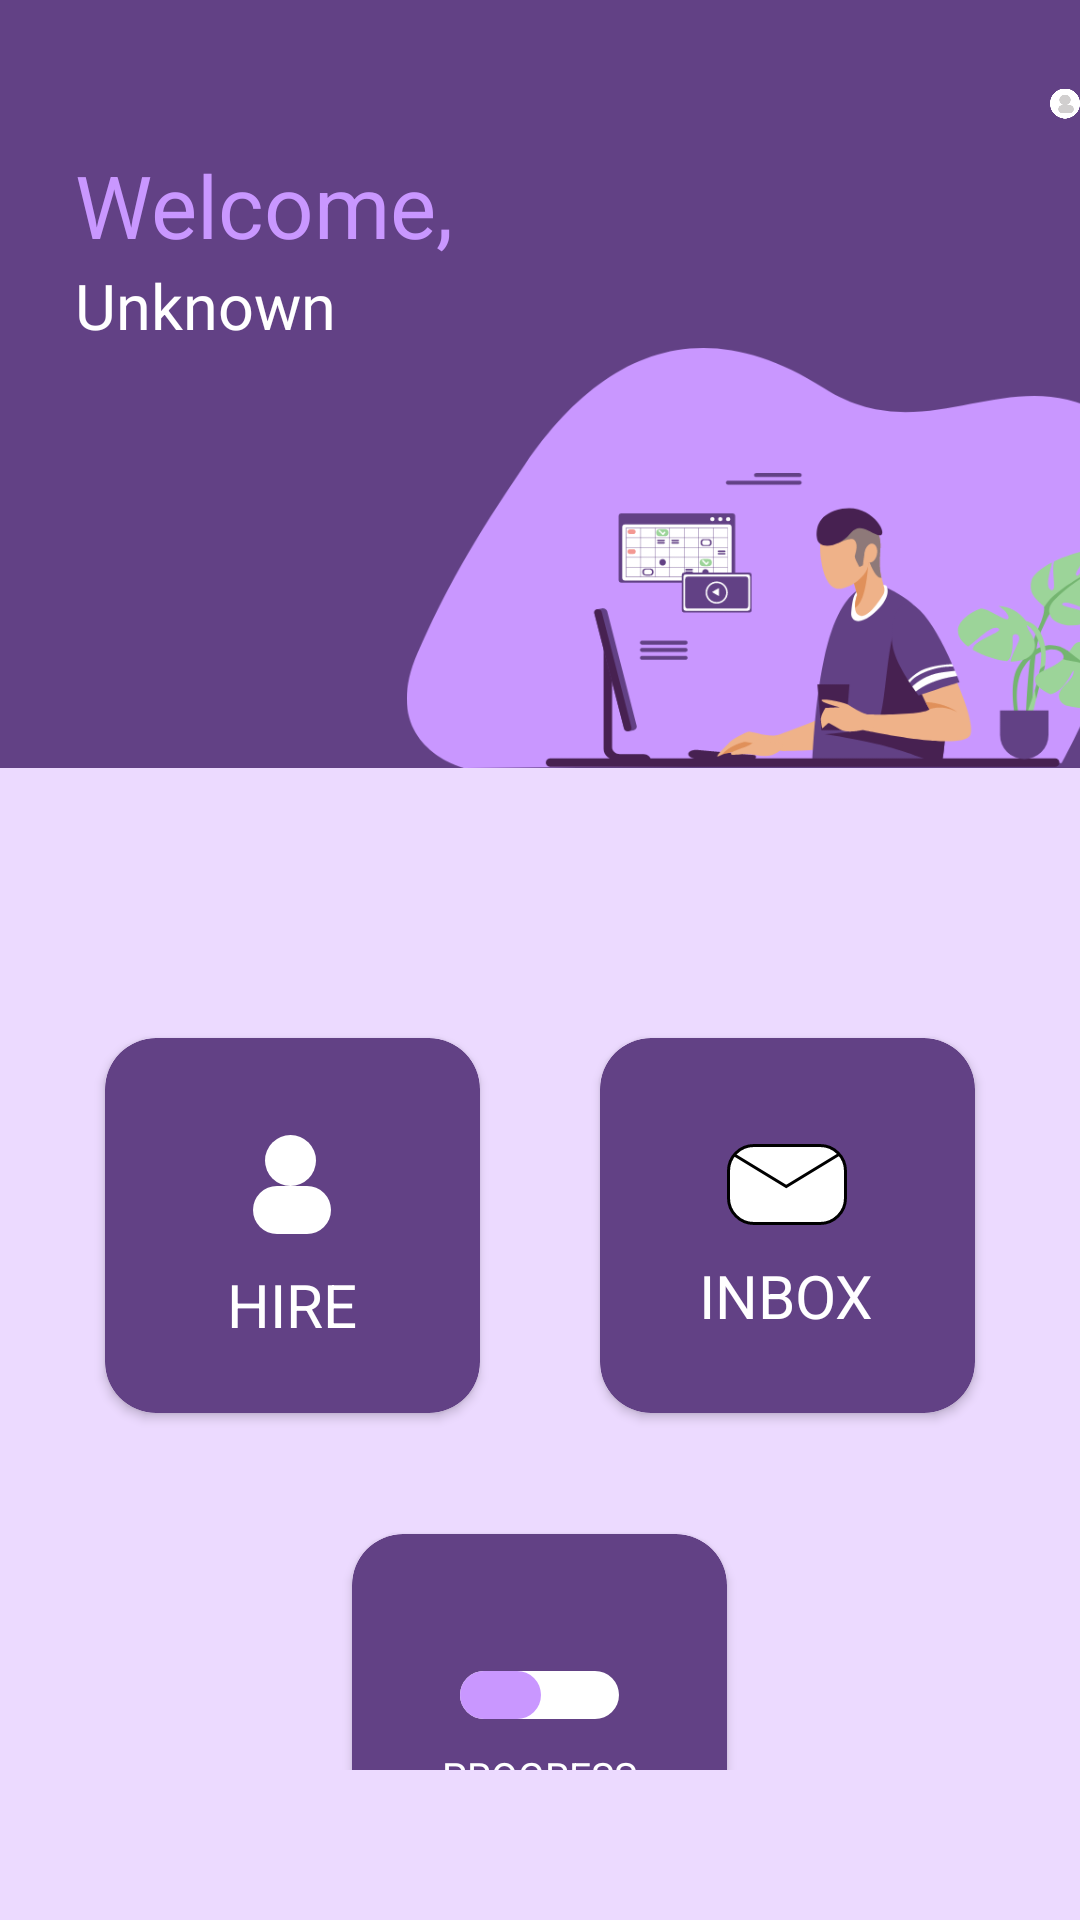

Icon click points for this 1080x1920 phone screenshot, format (x=x, y=y):
commentprofile: (x=1065, y=104)
